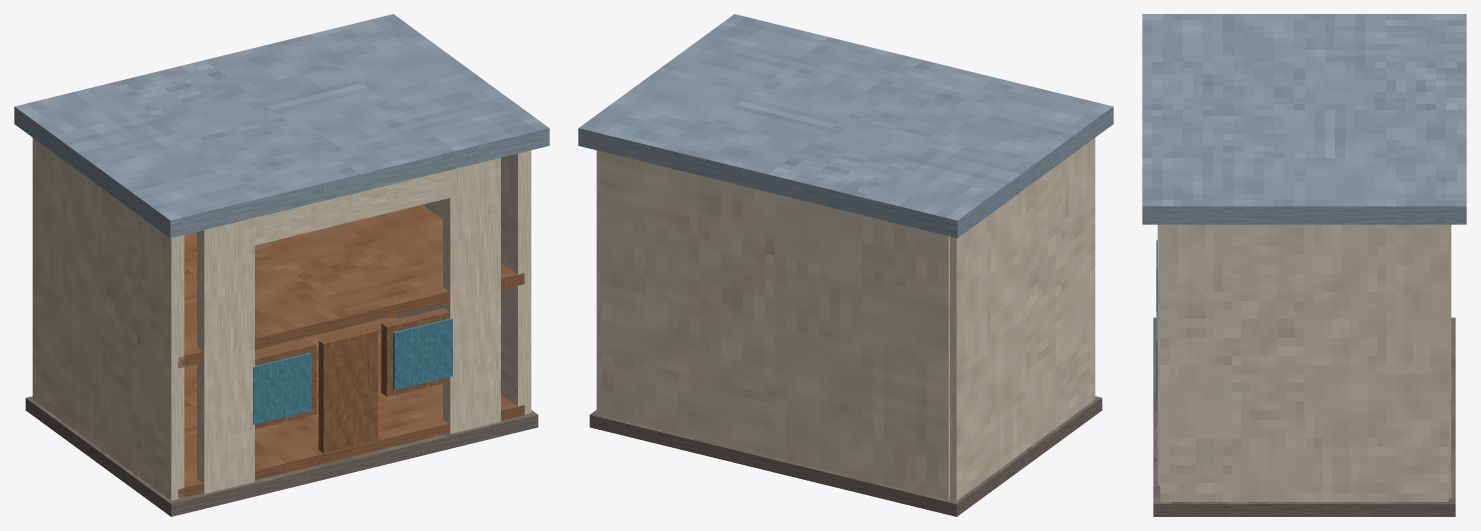
File: modern-house-exterior.glb
3 renders of one model, left to right at view 1: azimuth 30°, elevation 25°; view 2: azimuth 150°, elevation 25°; view 3: azimuth 270°, elevation 25°, orthographic. The views are drawn at different scales.
Parts seen in each view (by area): view 1: flat roof, side wall (×2), floor slab (×2), front masonry (×2), foundation, window pane (×2), front door, front header, window frame (×2); view 2: rear wall, flat roof, side wall (×2), foundation; view 3: side wall, flat roof, foundation, rear wall, front masonry.
Part boxes in pixels (x1,y1,x2,y2): flat roof: [14, 14, 549, 238]; side wall (×2): [32, 138, 531, 500]; floor slab (×2): [178, 204, 524, 498]; front masonry (×2): [197, 158, 500, 493]; foundation: [25, 396, 538, 516]; window pane (×2): [253, 318, 452, 424]; front door: [318, 327, 377, 453]; front header: [241, 170, 450, 247]; window frame (×2): [255, 308, 449, 429]; rear wall: [602, 151, 949, 500]; flat roof: [578, 14, 1113, 238]; side wall (×2): [596, 138, 1095, 500]; foundation: [589, 396, 1102, 516]; side wall: [1160, 224, 1448, 501]; flat roof: [1142, 14, 1466, 224]; foundation: [1153, 317, 1455, 516]; rear wall: [1448, 224, 1451, 498]; front masonry: [1157, 224, 1160, 485].
Size of the model in its own units: 3.76 by 2.86 by 2.68.
5 materials, 5 textured.
